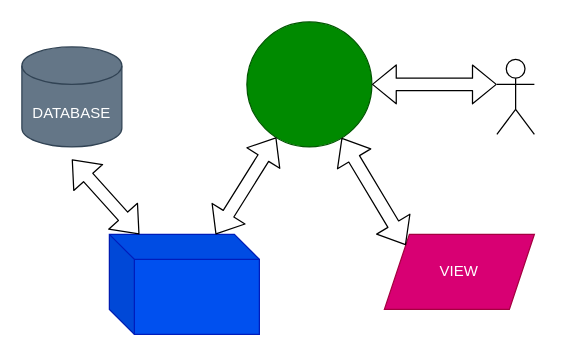
Image size: 581x356. Some labels were removed from this diagram. Here are the shapes that lost their labels. From the top down, the box of each, then its label:
(246, 21, 372, 147): CONTROLLER
(108, 233, 259, 334): MODEL 1. Service 2. Schema
